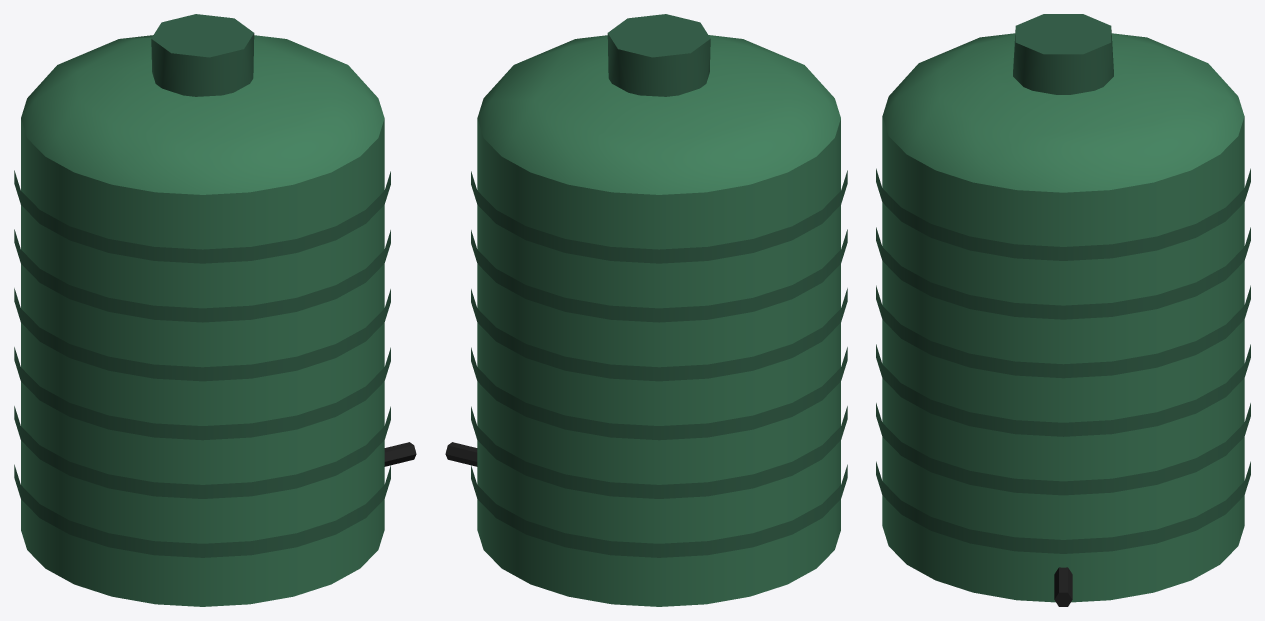
The model's file is water_tank_lod1.glb.
3 views of the same model, side by side, from view 1: azimuth 30°, elevation 25°; view 2: azimuth 150°, elevation 25°; view 3: azimuth 270°, elevation 25° (orthographic).
Visible parts, largest first — view 1: water_tank; view 2: water_tank; view 3: water_tank.
Boxes of the visible parts, x1,y1,x2,y2 form: water_tank: (14, 14, 416, 606); water_tank: (445, 14, 847, 606); water_tank: (876, 14, 1250, 606).
Bounding box in the file's own units: 1.66 × 2.1 × 1.45.
Materials: 1 (1 with a texture image).
